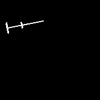double_crochet: (6, 21, 41, 32)
